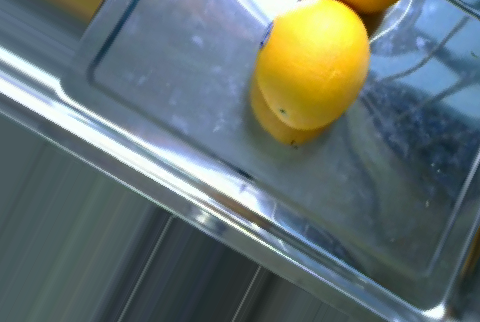Orange: (253, 0, 372, 131)
